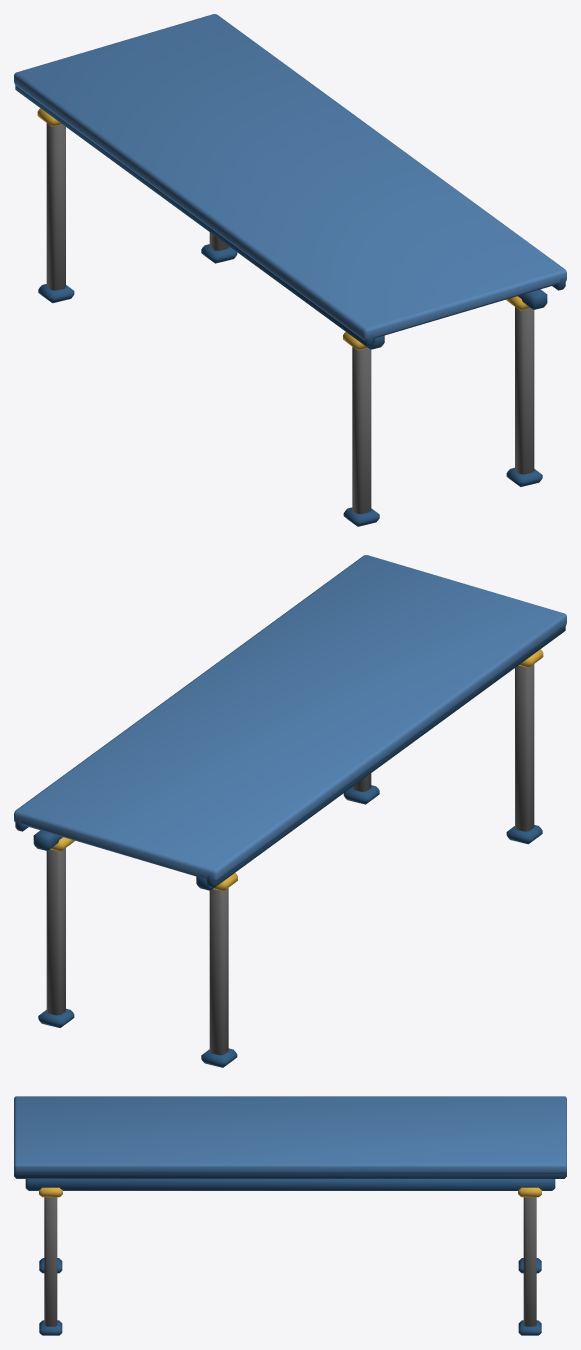
The model's file is platform-roof.glb.
3 renders of one model, top to bottom at view 1: azimuth 30°, elevation 25°; view 2: azimuth 150°, elevation 25°; view 3: azimuth 270°, elevation 25°, orthographic. The views are drawn at different scales.
Parts seen in each view (by area): view 1: platform-roof; view 2: platform-roof; view 3: platform-roof.
Part boxes in pixels (<box>): platform-roof: <box>14,14,566,526</box>; platform-roof: <box>14,555,566,1067</box>; platform-roof: <box>14,1096,566,1335</box>.
Bounding box in the file's own units: 4 × 4.2 × 12.
